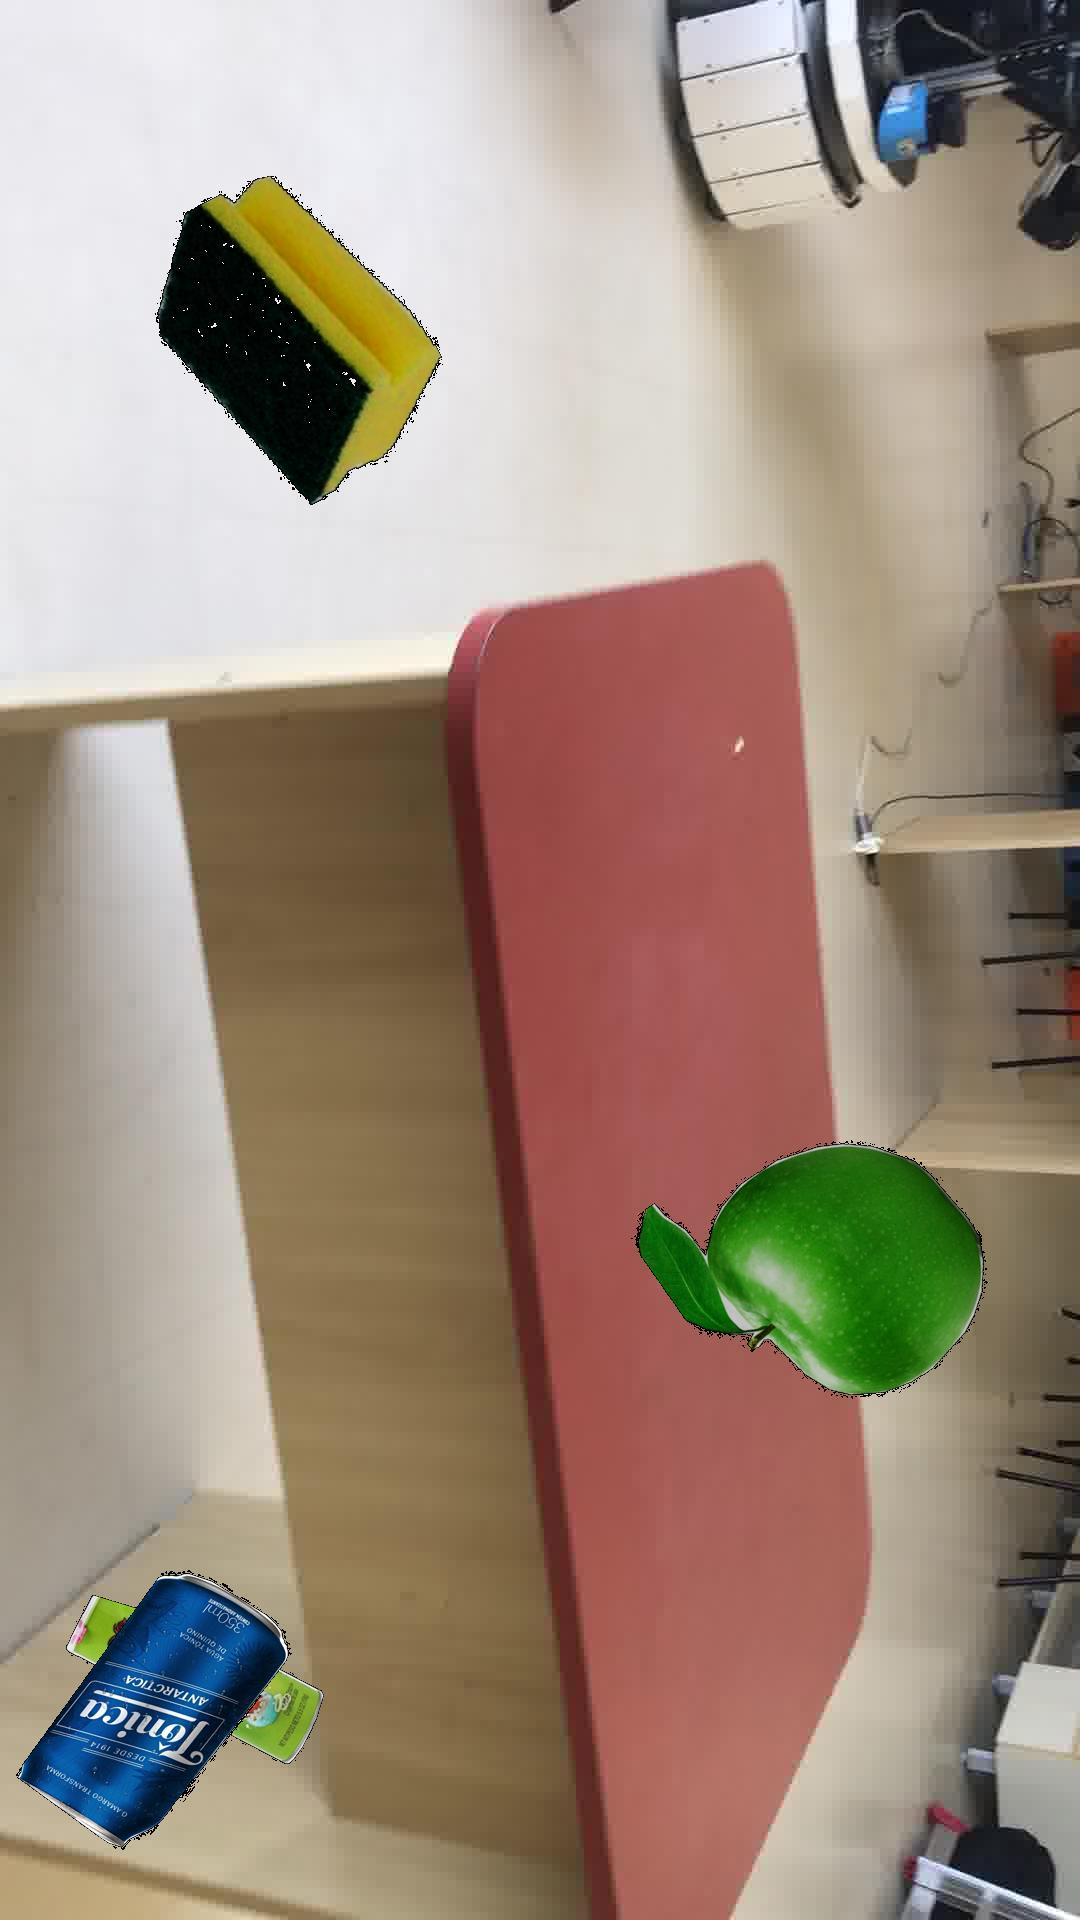green apple: (633, 1139, 985, 1395)
pringles: (65, 1593, 323, 1763)
sponge: (154, 174, 440, 504)
tonic: (15, 1569, 290, 1849)
